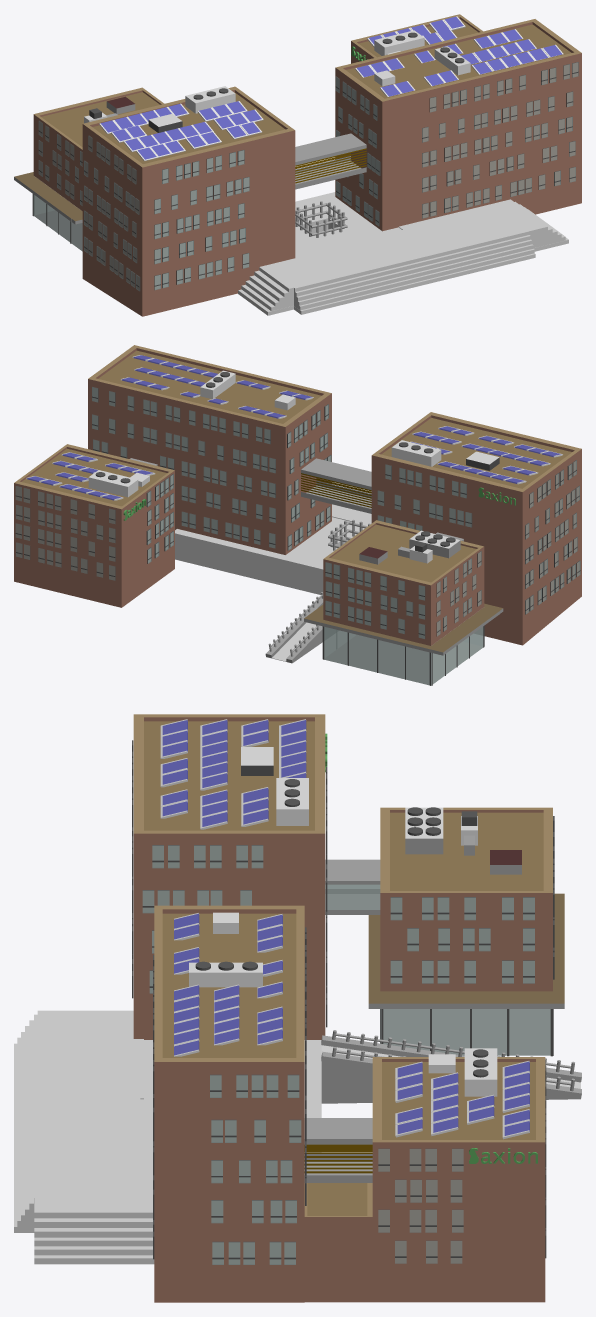
Rendered from saxion edith building.fbx.
3 views of the same model, one above another, from view 1: azimuth 30°, elevation 25°; view 2: azimuth 150°, elevation 25°; view 3: azimuth 270°, elevation 25° (orthographic). The views are drawn at different scales.
Parts seen in each view (by area): view 1: pCube4, pCube1, pCube2, pCube465, pCube471, pCube5, pCube496, polySurface1, pCube9, pCube463, pCube464, pCube461 (+7 smaller); view 2: pCube4, pCube1, pCube3, pCube2, pCube9, polySurface1, pCube5, pCube493, pCube457, pCube75, pCube70, pCube429 (+1 smaller); view 3: pCube4, pCube3, pCube1, pCube2, pCube465, pCube9, pCube8, pCube471, pCube493, pCube472, pCube496, pCube7 (+17 smaller).
Part boxes in pixels (box(x1,y1,x2,y2)): pCube4: box(335, 19, 581, 231); pCube1: box(82, 86, 295, 316); pCube2: box(33, 87, 164, 210); pCube465: box(294, 207, 529, 291); pCube471: box(259, 237, 400, 292); pCube5: box(295, 133, 366, 189); pCube496: box(399, 199, 547, 253); polySurface1: box(295, 192, 401, 254); pCube9: box(14, 172, 82, 251); pCube463: box(294, 239, 532, 301); pCube464: box(294, 235, 530, 296); pCube461: box(294, 248, 534, 310); pCube4: box(88, 345, 331, 554); pCube1: box(371, 412, 581, 645); pCube3: box(14, 444, 174, 607); pCube2: box(323, 520, 484, 645); pCube9: box(304, 603, 503, 685); polySurface1: box(175, 517, 364, 594); pCube5: box(301, 458, 371, 513); pCube493: box(265, 597, 323, 663); pCube457: box(88, 470, 138, 497); pCube75: box(391, 440, 441, 466); pCube70: box(409, 530, 460, 558); pCube429: box(200, 370, 235, 398); pCube4: box(154, 905, 304, 1302); pCube3: box(372, 1057, 545, 1302); pCube1: box(133, 714, 325, 1039); pCube2: box(380, 807, 552, 991); pCube465: box(34, 1014, 140, 1203); pCube9: box(368, 893, 564, 1055); pCube8: box(304, 1183, 372, 1302); pCube471: box(37, 1010, 143, 1099); pCube493: box(321, 1035, 581, 1103); pCube472: box(304, 1118, 372, 1182); pCube496: box(34, 1125, 152, 1218); pCube7: box(325, 859, 380, 914).
Size of the model in its own units: 2673 by 936 by 1831.
